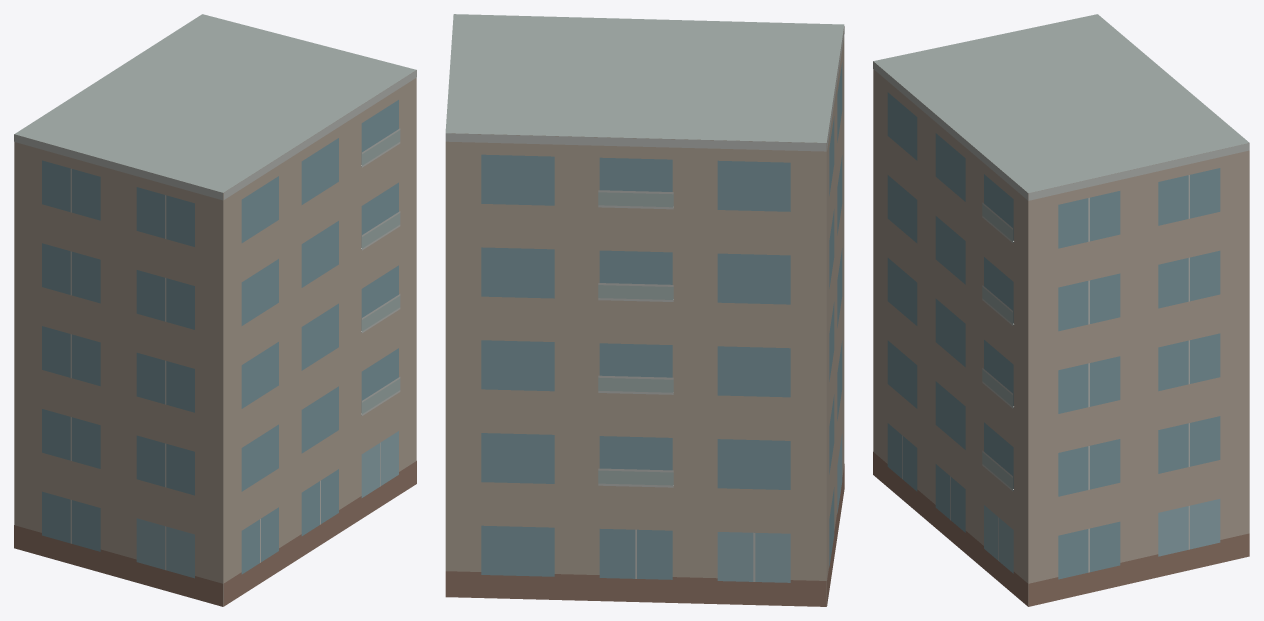
Rendered from survey-upis-33000374.glb.
3 renders of one model, left to right at view 1: azimuth 30°, elevation 25°; view 2: azimuth 150°, elevation 25°; view 3: azimuth 270°, elevation 25°, orthographic. The views are drawn at different scales.
Parts seen in each view (by area): view 1: survey-upis-33000374.tmp; view 2: survey-upis-33000374.tmp; view 3: survey-upis-33000374.tmp.
Part boxes in pixels (x1,y1,x2,y2): survey-upis-33000374.tmp: (14,14,416,606); survey-upis-33000374.tmp: (445,14,844,606); survey-upis-33000374.tmp: (873,14,1249,606).
Size of the model in its own units: 12.33 by 13.25 by 10.94.
